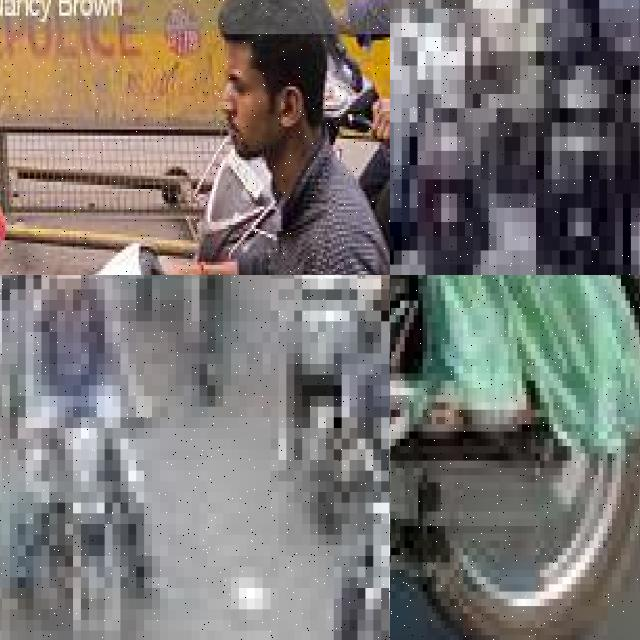bike: (390, 275, 640, 640), (25, 385, 167, 640), (528, 0, 640, 275), (417, 0, 504, 275), (286, 275, 365, 492), (144, 275, 262, 406)
